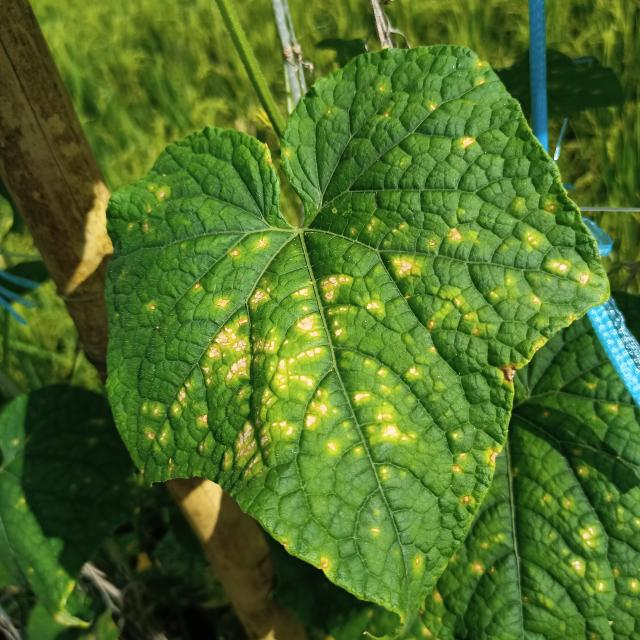disease_cucumber: (111, 87, 585, 552)
